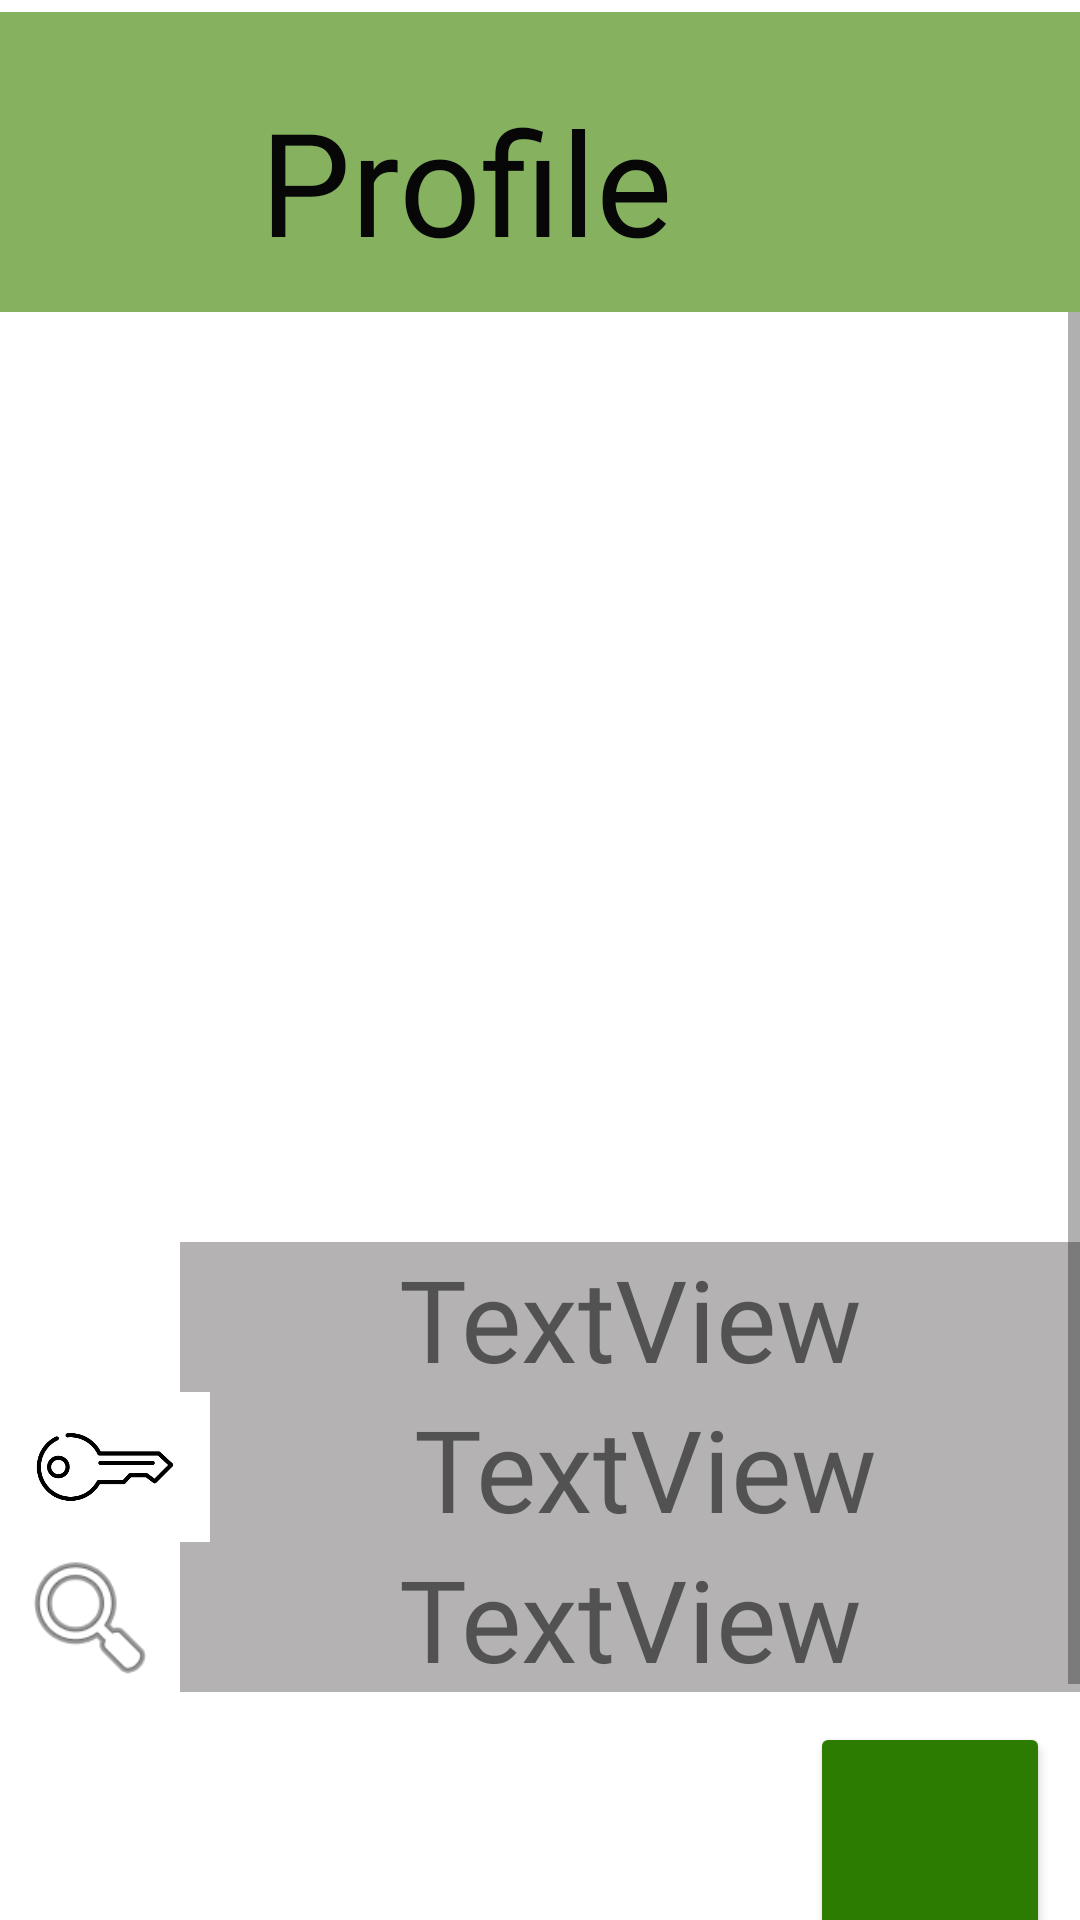

Where to tap for icons on this 1080x1920 app screen, as (x,y):
key: (105,1467)
search: (90,1618)
